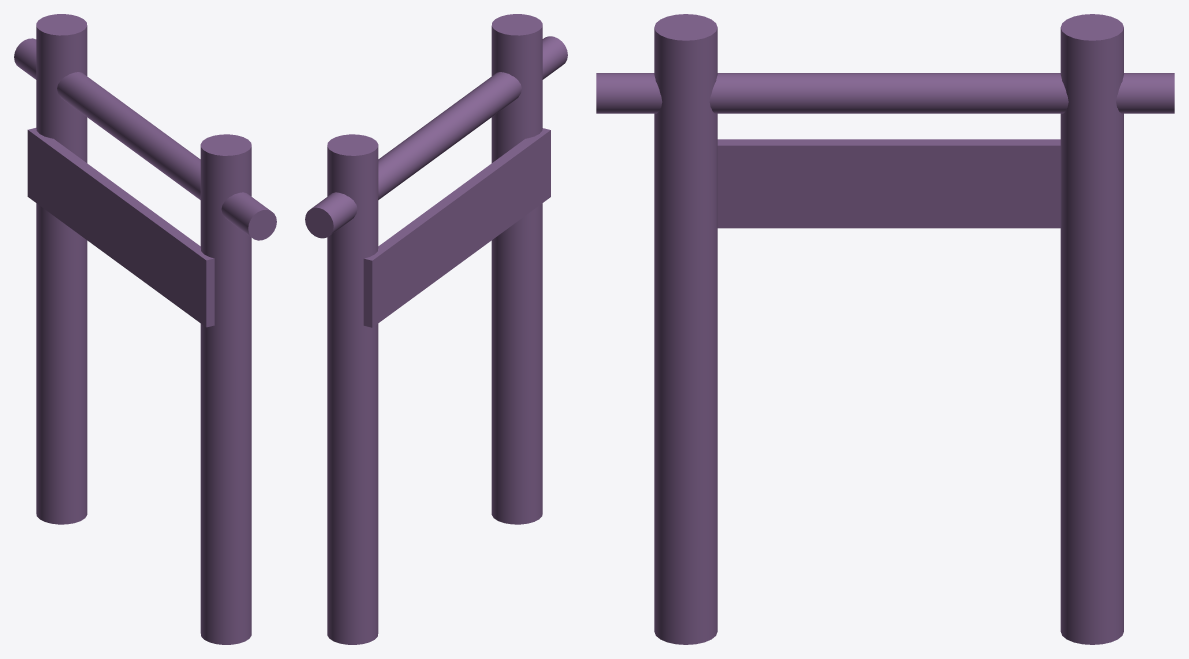
Rendered from entrada_fogata.fbx.
The picture shows the model from 3 angles, left to right: view 1: azimuth 30°, elevation 25°; view 2: azimuth 150°, elevation 25°; view 3: azimuth 270°, elevation 25°; orthographic projection. The views are drawn at different scales.
Visible parts, largest first — view 1: entrada_fogata; view 2: entrada_fogata; view 3: entrada_fogata.
Boxes of the visible parts, x1,y1,x2,y2 form: entrada_fogata: (14,14,276,644); entrada_fogata: (305,14,567,644); entrada_fogata: (596,14,1174,644).
Size of the model in its own units: 0.4205 by 4.01 by 3.48.
